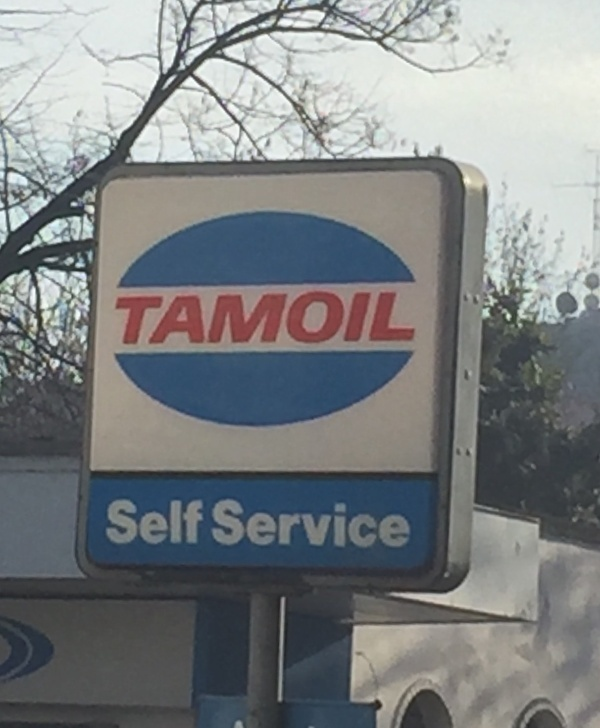text: (225, 496, 240, 550), (241, 496, 256, 550), (257, 496, 272, 550), (273, 496, 288, 550), (289, 496, 304, 550), (305, 496, 320, 550), (321, 496, 336, 550), (337, 496, 352, 550), (353, 496, 368, 550), (369, 496, 384, 550), (385, 496, 400, 550), (113, 295, 128, 346), (129, 295, 144, 346), (145, 295, 160, 346), (161, 295, 176, 346), (177, 295, 192, 346), (193, 295, 208, 346), (209, 295, 224, 346), (225, 295, 240, 346), (241, 295, 256, 346), (257, 295, 272, 346), (273, 295, 288, 346), (289, 295, 304, 346), (305, 295, 320, 346), (321, 295, 336, 346), (337, 295, 352, 346), (353, 295, 368, 346), (369, 295, 384, 346), (385, 295, 400, 346), (401, 295, 416, 346), (113, 494, 128, 545), (129, 494, 144, 545), (145, 494, 160, 545), (161, 494, 176, 545), (177, 494, 192, 545), (212, 496, 224, 550), (401, 496, 411, 550), (193, 494, 203, 545), (108, 494, 112, 545), (417, 295, 419, 346)
